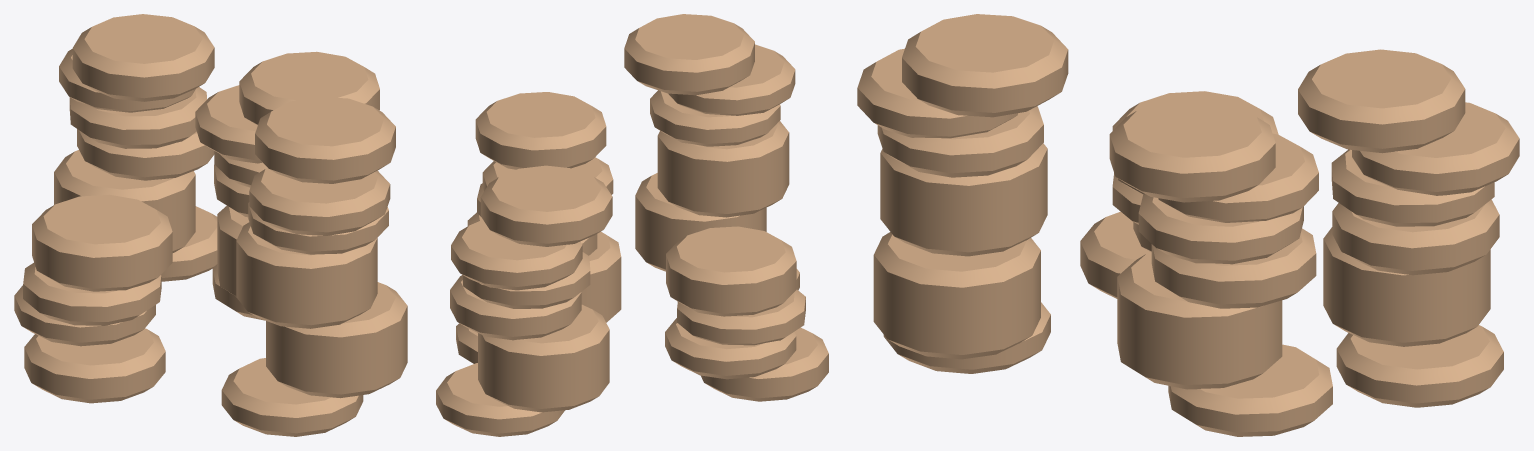
Rendered from Prop_Coins.glb.
The picture shows the model from 3 angles, left to right: view 1: azimuth 30°, elevation 25°; view 2: azimuth 150°, elevation 25°; view 3: azimuth 270°, elevation 25°; orthographic projection. The views are drawn at different scales.
Visible parts, largest first — view 1: Prop_Coins; view 2: Prop_Coins; view 3: Prop_Coins.
Boxes of the visible parts, x1,y1,x2,y2 form: Prop_Coins: [14, 14, 407, 436]; Prop_Coins: [436, 14, 828, 436]; Prop_Coins: [857, 14, 1519, 436].
Bounding box in the file's own units: 0.4567 × 0.3439 × 0.6354.
Materials: 1 (1 with a texture image).
